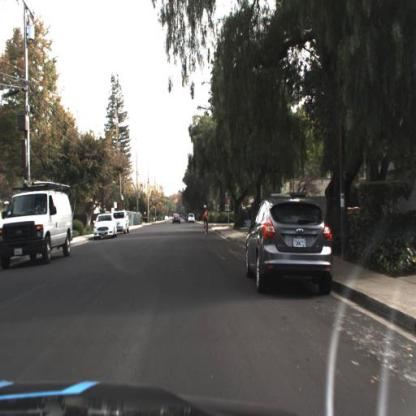biker: (201, 198, 212, 240), (202, 203, 211, 237)
car: (246, 196, 334, 298), (1, 178, 77, 271), (90, 210, 118, 241), (114, 207, 133, 236), (174, 213, 182, 225), (189, 213, 197, 223)
